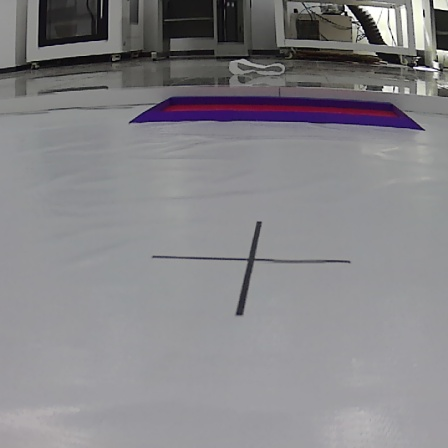red_aim: (124, 91, 426, 134)
